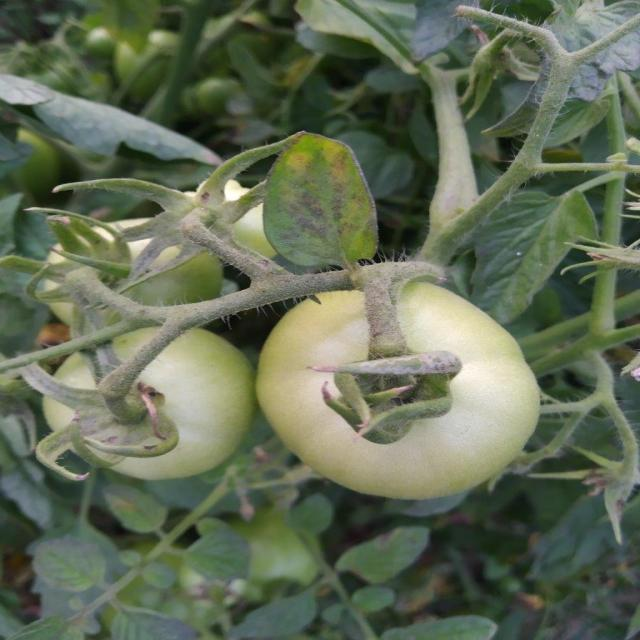Unripe: (256, 275, 541, 502), (39, 318, 254, 483)
